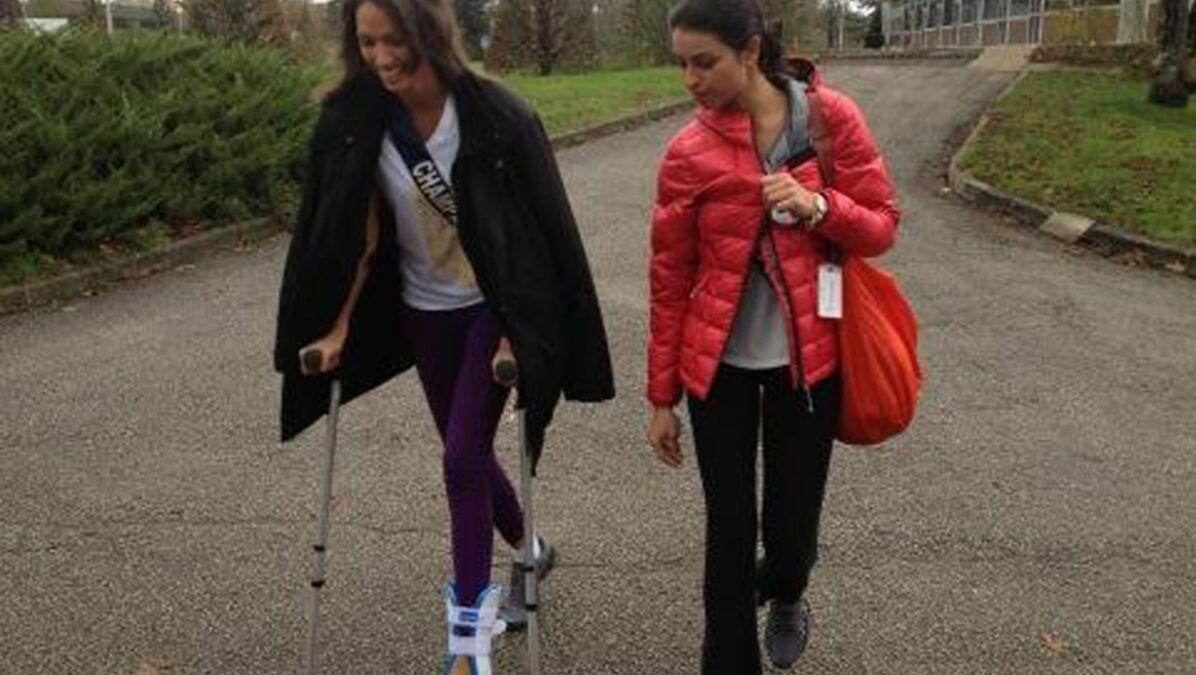crutches: (274, 0, 617, 674)
